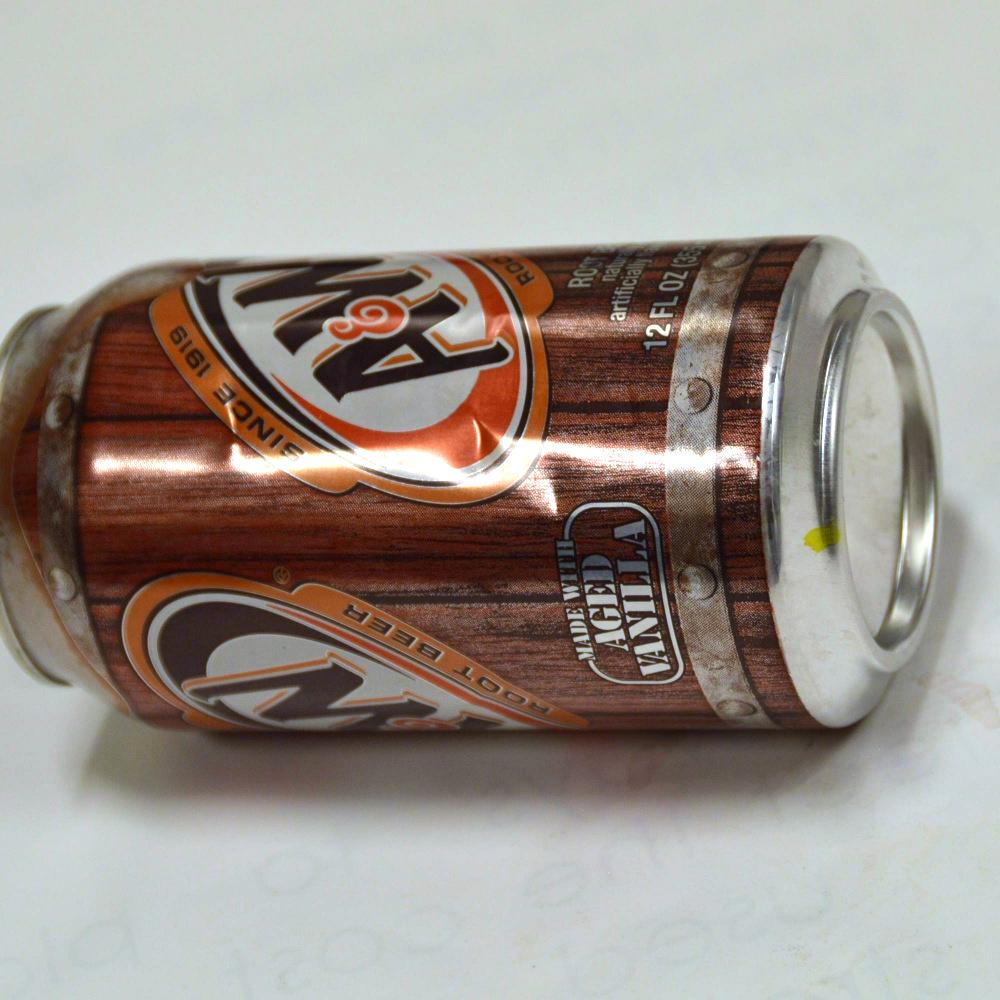Metal: (33, 252, 921, 738)
